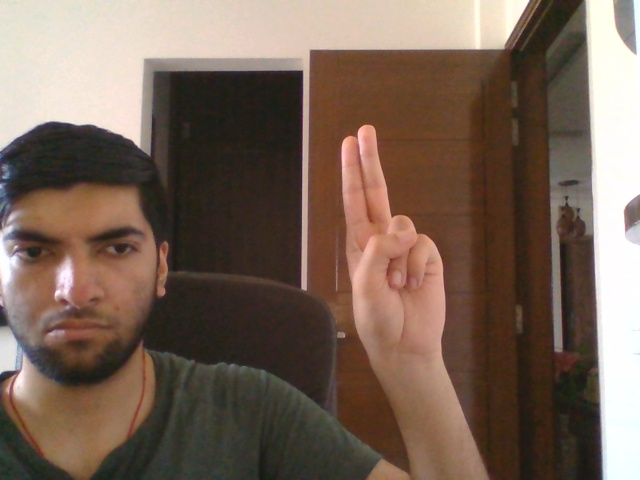LetterU: (338, 122, 449, 353)
